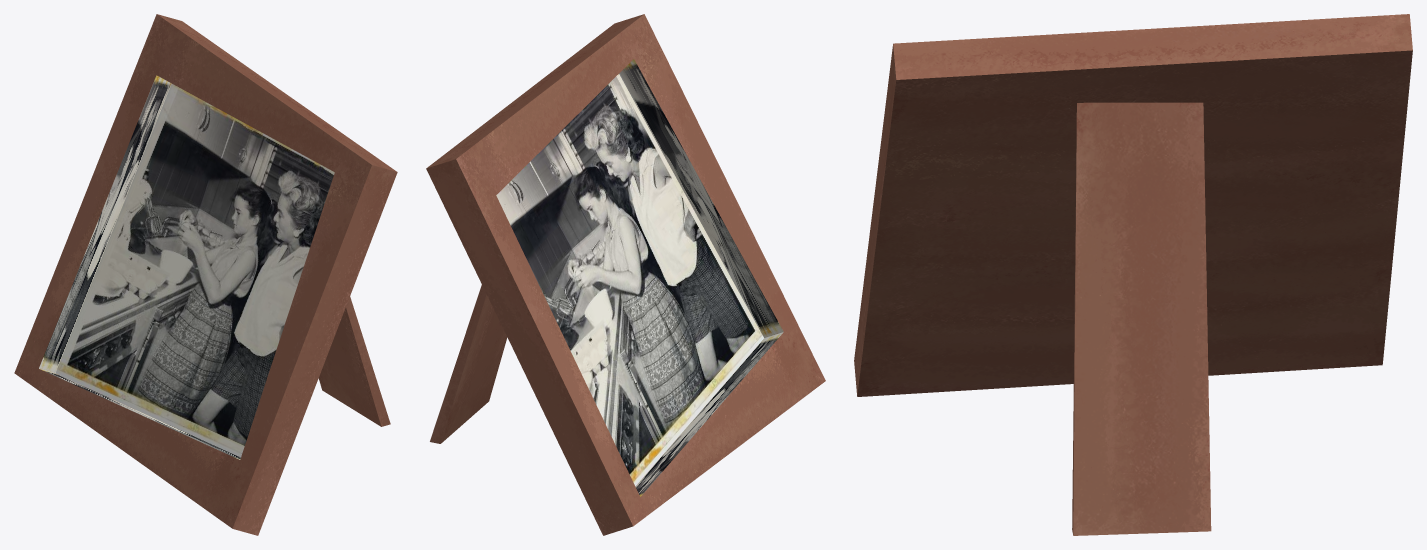
The model's file is Frame_UV.fbx.
3 views of the same model, side by side, from view 1: azimuth 30°, elevation 25°; view 2: azimuth 150°, elevation 25°; view 3: azimuth 270°, elevation 25° (orthographic). The views are drawn at different scales.
Visible parts, largest first — view 1: Cube_2.002, Cube_1.002, Cube.002; view 2: Cube_2.002, Cube_1.002, Cube.002; view 3: Cube_1.002, Cube.002.
Part boxes in pixels (box(x1,y1,x2,y2)): Cube_2.002: box(39, 75, 334, 459); Cube_1.002: box(14, 14, 397, 535); Cube.002: box(318, 296, 390, 426); Cube_2.002: box(496, 59, 783, 496); Cube_1.002: box(426, 14, 825, 535); Cube.002: box(430, 285, 507, 443); Cube_1.002: box(854, 14, 1412, 396); Cube.002: box(1072, 102, 1211, 535).
Bounding box in the file's own units: 25.83 × 32.52 × 36.34.
